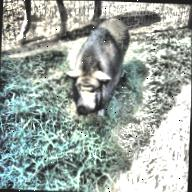boar: (63, 15, 131, 120)
